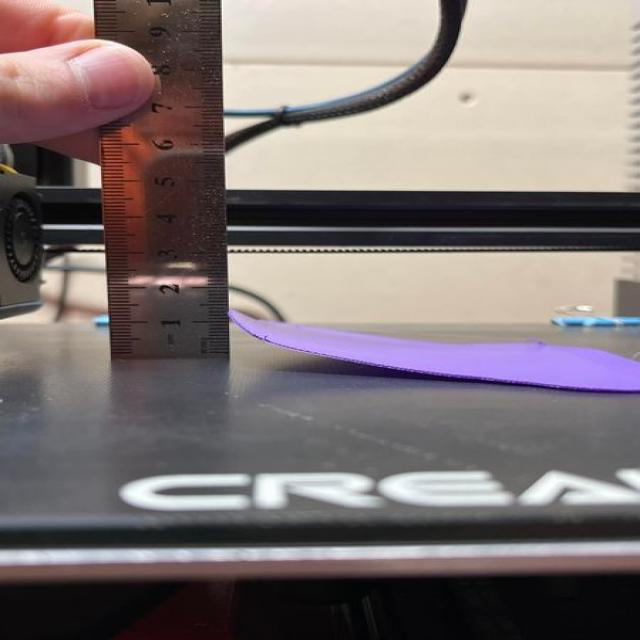Warping: (221, 318, 479, 388)
